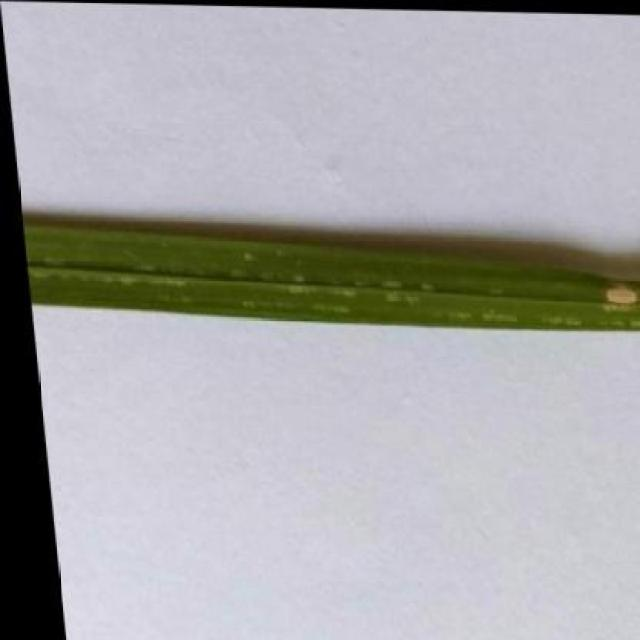Bacterial_Leaf_Blight: (594, 272, 640, 312)
Rice Tungro: (15, 182, 636, 384)
